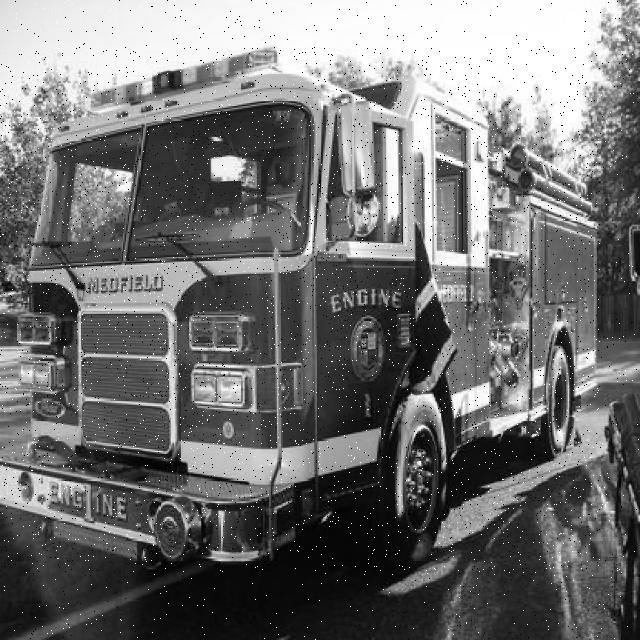Fire Truck: (0, 48, 600, 573)
